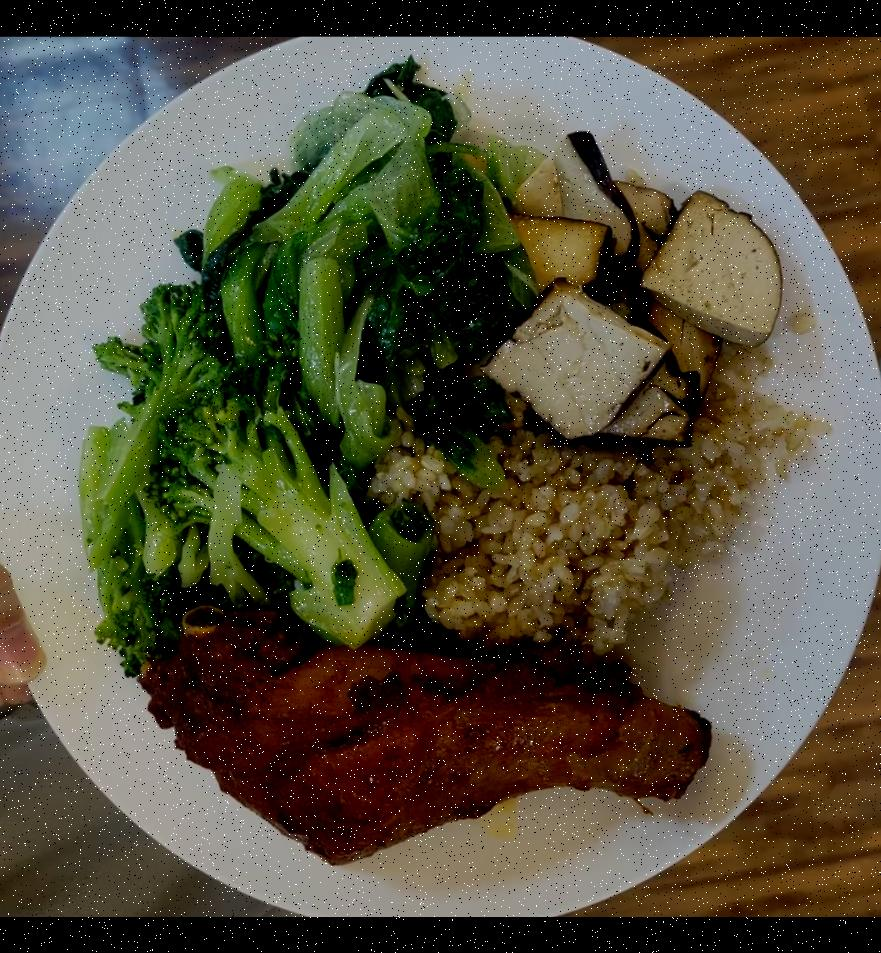brown rice: (369, 407, 794, 650)
honey grilled chicken leg: (135, 602, 714, 866)
plate: (0, 42, 881, 917)
side dish: (63, 286, 422, 666), (198, 74, 502, 462), (482, 130, 781, 453)
